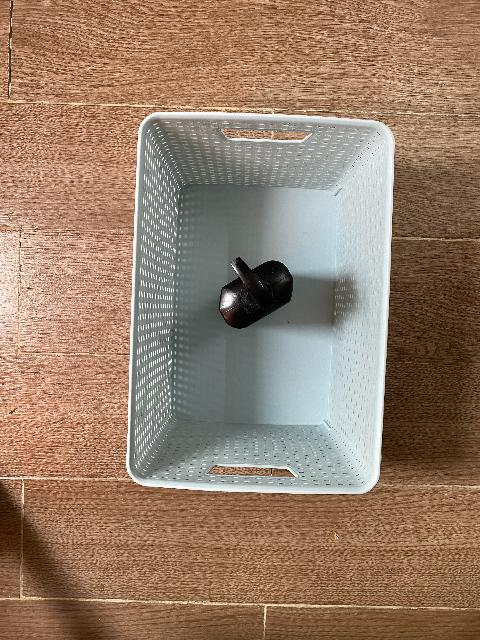X-men: (219, 257, 293, 329)
cart: (126, 112, 394, 495)
